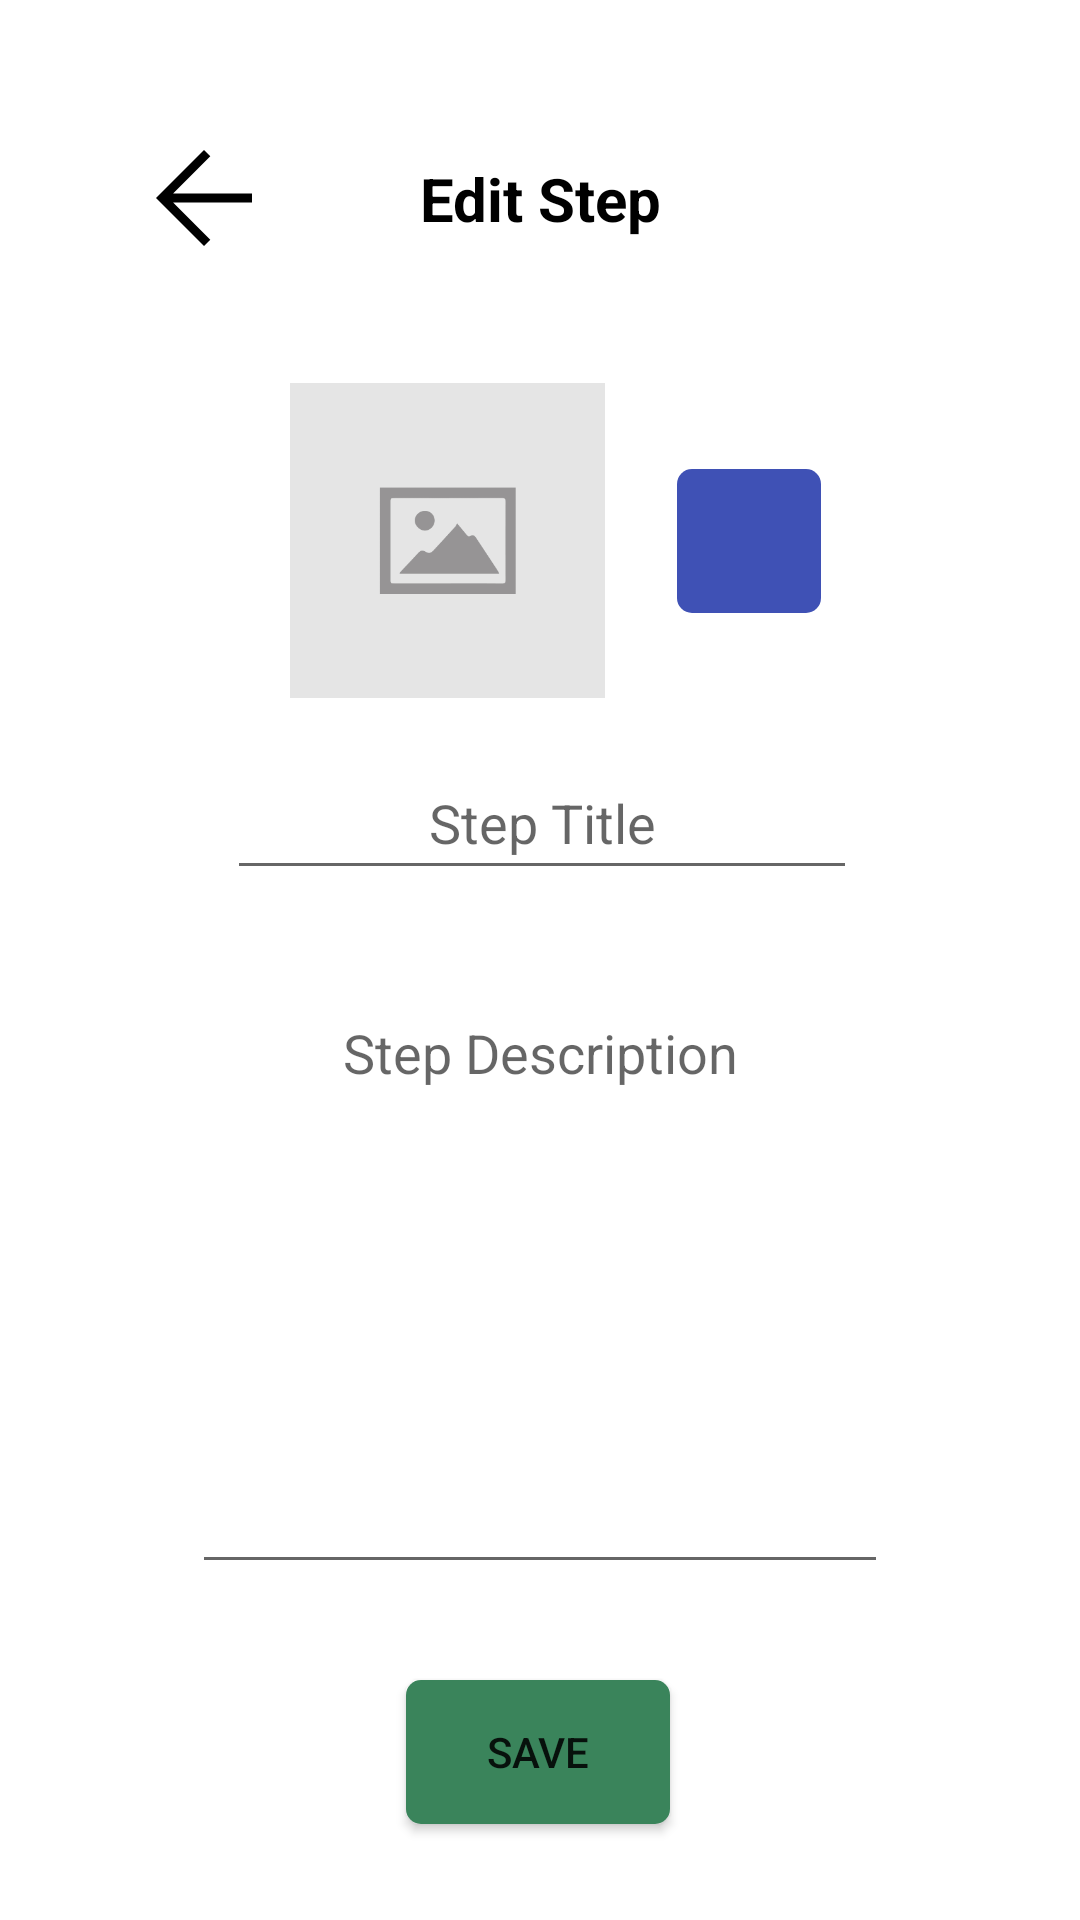

Where icons sit on this 1080x1920 app screen, as (x1, y1, x2, y2):
Back: (156, 150, 252, 246)
